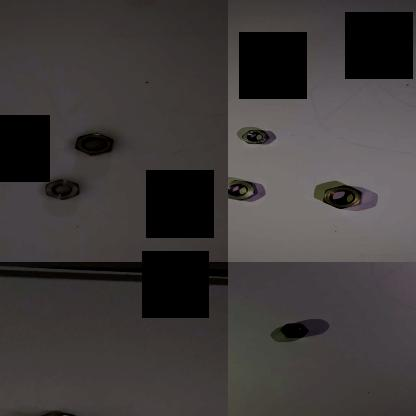Bolts: (22, 403, 96, 416)
NUTS: (71, 128, 119, 157), (320, 183, 368, 211), (42, 176, 83, 200), (277, 317, 313, 341), (228, 177, 261, 202), (240, 128, 272, 144)
